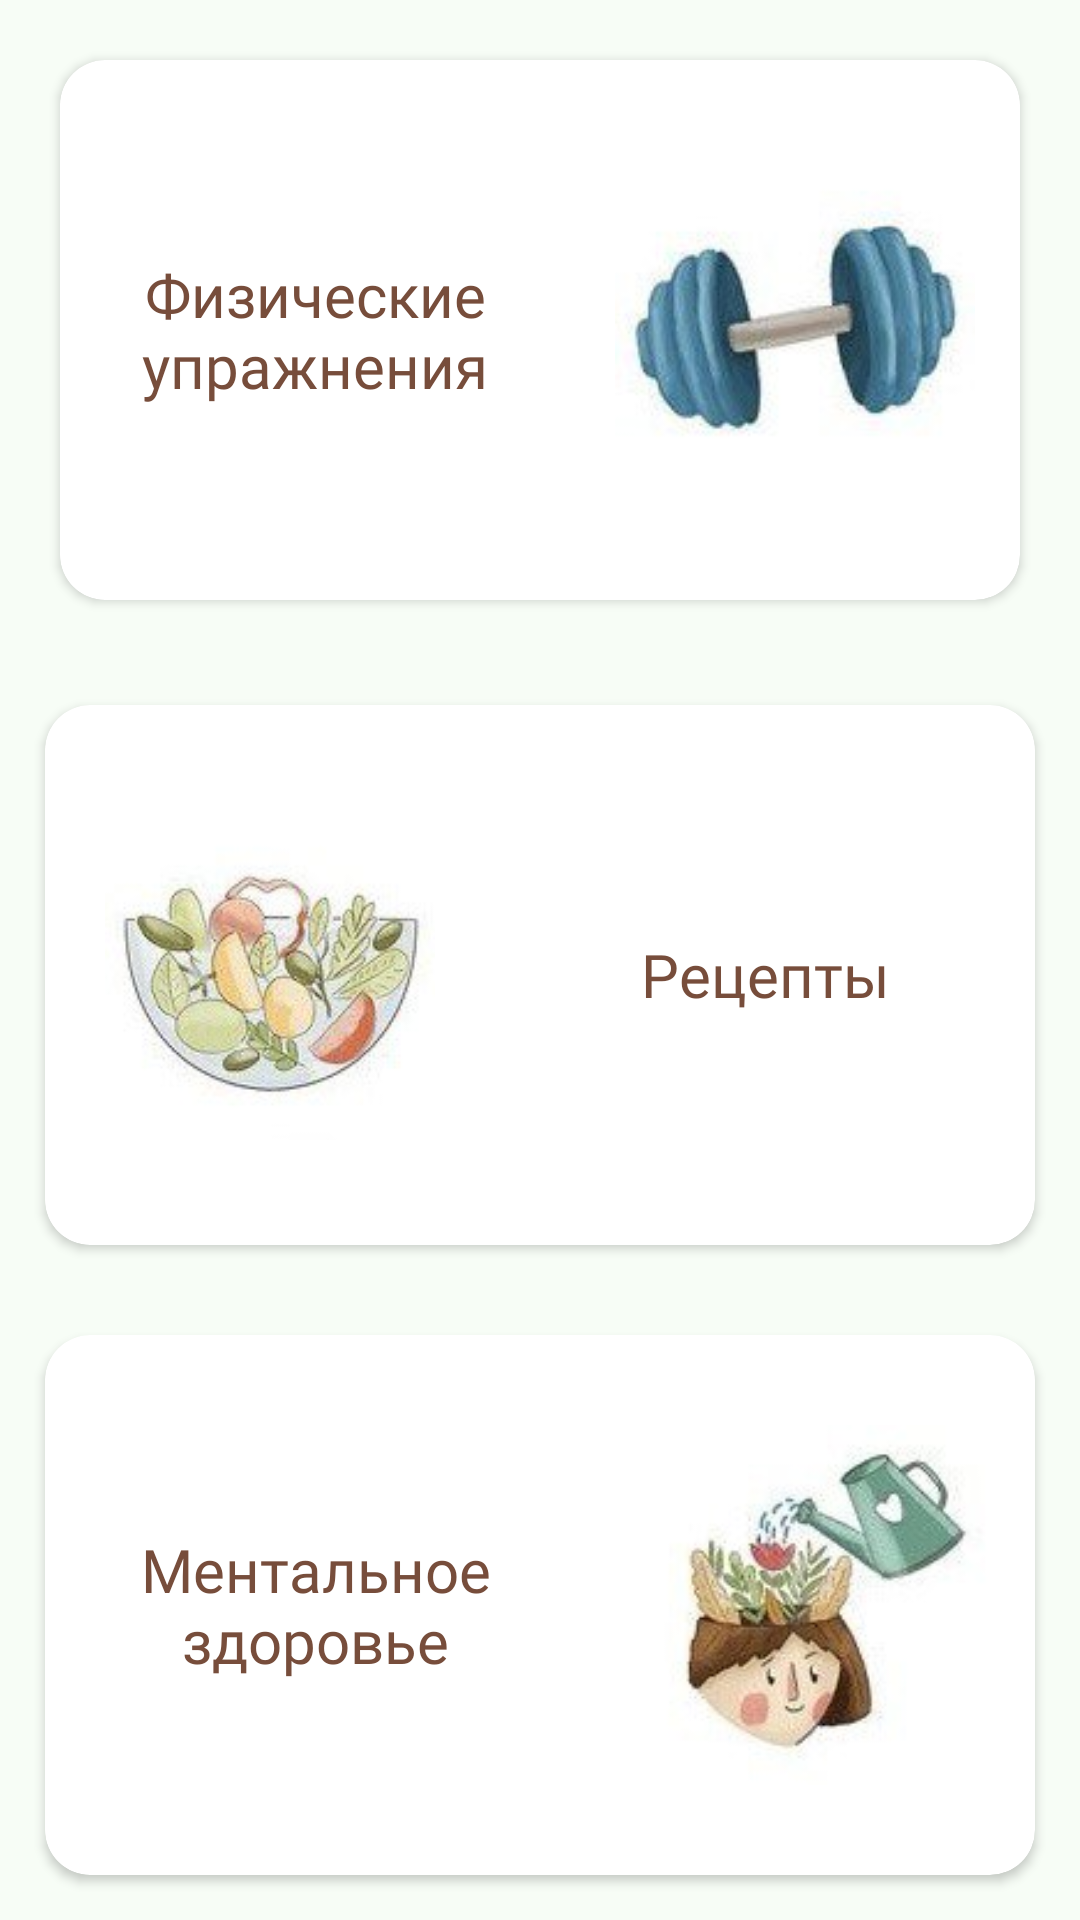

Screen size 1080w x 1920h. Icon name, then its box in pixels as (x1, y1, x2, y2):
mental: (686, 1454, 966, 1749)
recipes: (123, 875, 419, 1092)
workouts: (634, 225, 958, 431)
